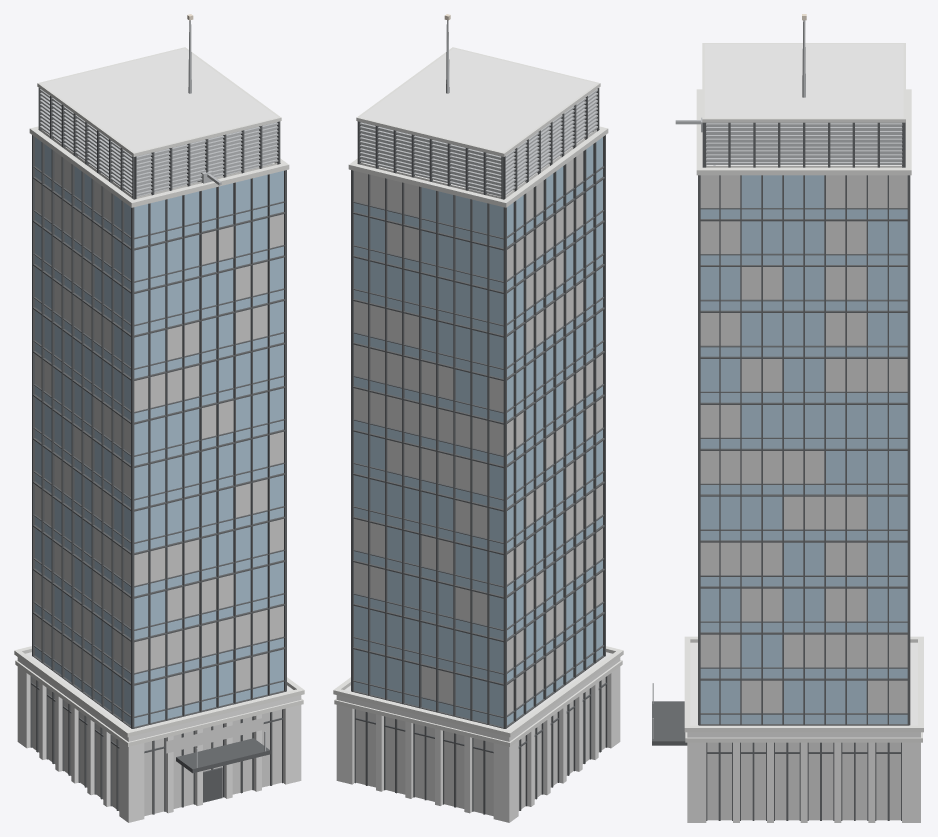
File: tower_slim195n.glb
3 views of the same model, side by side, from view 1: azimuth 30°, elevation 25°; view 2: azimuth 150°, elevation 25°; view 3: azimuth 270°, elevation 25° (orthographic). The views are drawn at different scales.
Visible parts, largest first — view 1: tower_slim195n_Glass, tower_slim195n_Frames, tower_slim195n_WindowsLit, tower_slim195n_Roof, tower_slim195n_Walls2, tower_slim195n_Details, tower_slim195n_Trim, tower_slim195n_Accent, tower_slim195n_Brand; view 2: tower_slim195n_Glass, tower_slim195n_Frames, tower_slim195n_WindowsLit, tower_slim195n_Roof, tower_slim195n_Walls2, tower_slim195n_Trim, tower_slim195n_Details; view 3: tower_slim195n_Glass, tower_slim195n_WindowsLit, tower_slim195n_Frames, tower_slim195n_Roof, tower_slim195n_Trim, tower_slim195n_Details, tower_slim195n_Walls2, tower_slim195n_Accent.
Boxes of the visible parts, x1,y1,x2,y2 form: tower_slim195n_Glass: (35,137,283,726); tower_slim195n_Frames: (30,88,286,814); tower_slim195n_WindowsLit: (32,152,283,816); tower_slim195n_Roof: (25,48,293,729); tower_slim195n_Walls2: (17,657,301,822); tower_slim195n_Details: (40,20,278,767); tower_slim195n_Trim: (14,47,304,746); tower_slim195n_Accent: (176,738,270,773); tower_slim195n_Brand: (166,718,263,753); tower_slim195n_Glass: (354,137,602,726); tower_slim195n_Frames: (351,88,607,814); tower_slim195n_WindowsLit: (354,152,605,816); tower_slim195n_Roof: (344,48,612,729); tower_slim195n_Walls2: (336,657,620,822); tower_slim195n_Trim: (333,47,623,746); tower_slim195n_Details: (359,20,597,196); tower_slim195n_Glass: (700,175,907,723); tower_slim195n_WindowsLit: (700,175,907,820); tower_slim195n_Frames: (698,122,910,820); tower_slim195n_Roof: (690,44,917,725); tower_slim195n_Trim: (684,43,923,742); tower_slim195n_Details: (652,20,902,738); tower_slim195n_Walls2: (687,732,920,822); tower_slim195n_Accent: (652,701,687,745).
Size of the model in its own units: 55.4 by 221 by 69.7.
